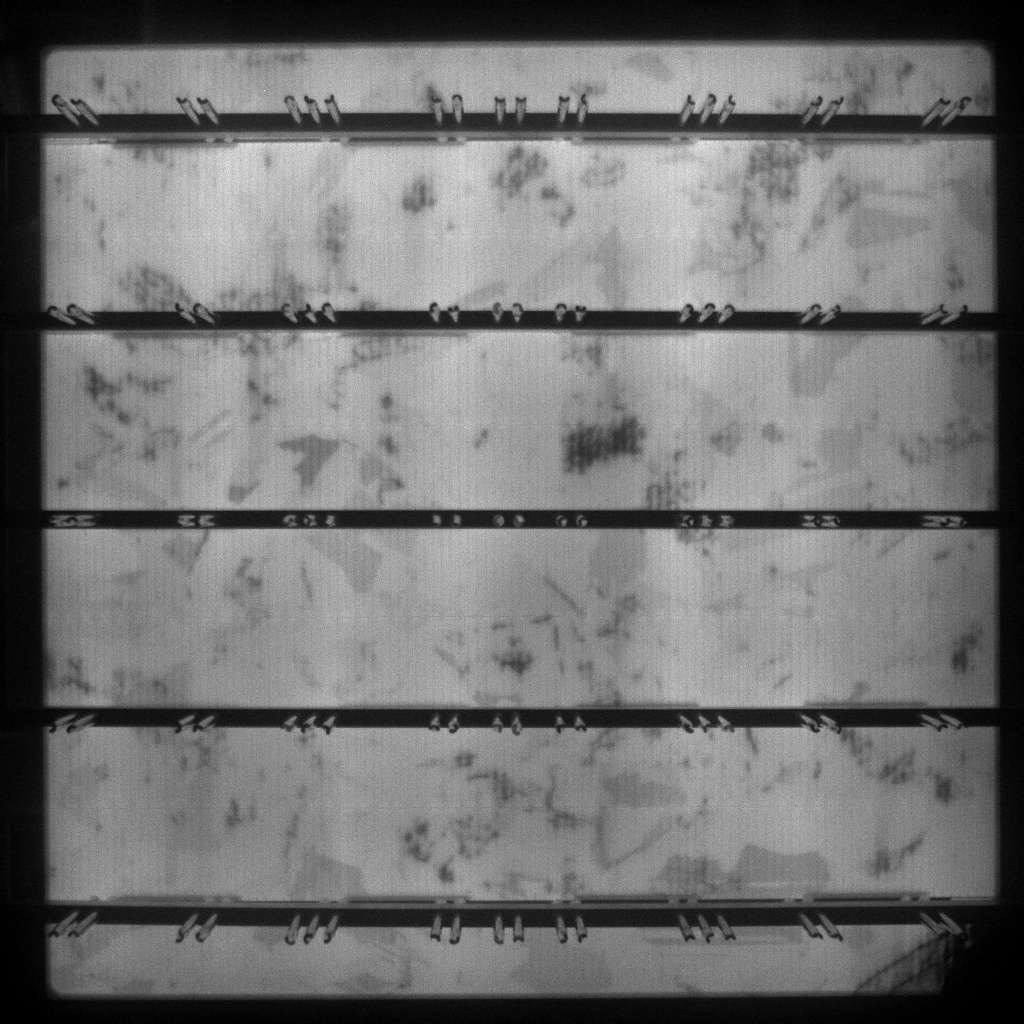crack: (850, 930, 938, 993)
